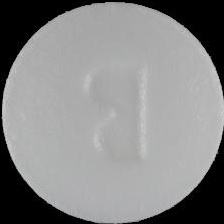51991-474: (0, 0, 224, 224)
